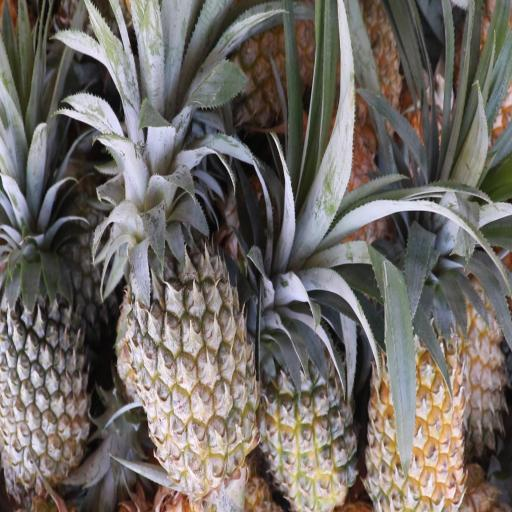------------------------------: (123, 206, 265, 503), (258, 333, 362, 512)
Pineapple - v8 v1: (360, 293, 468, 512)
